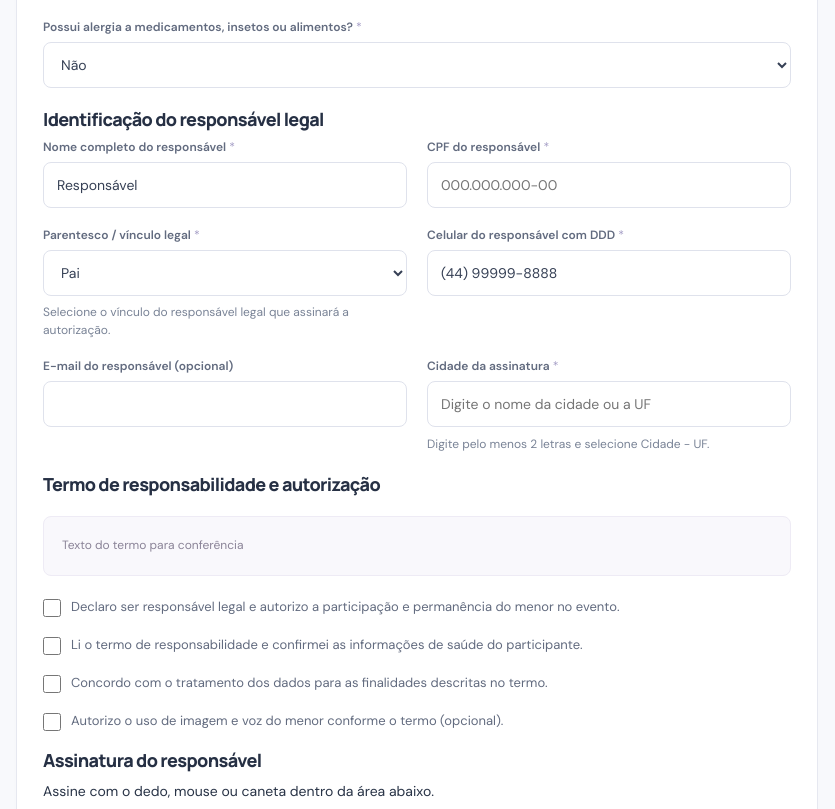
Test: Preenchimento do termo pelo responsável › busca Cidade - UF e seleciona com teclado sem assinar a autorização
(page scrolled)
Type "santa helena" into the dropdown named "Cidade da assinatura".
click(609, 404); type("santa helena")  # box [427,381,791,427]
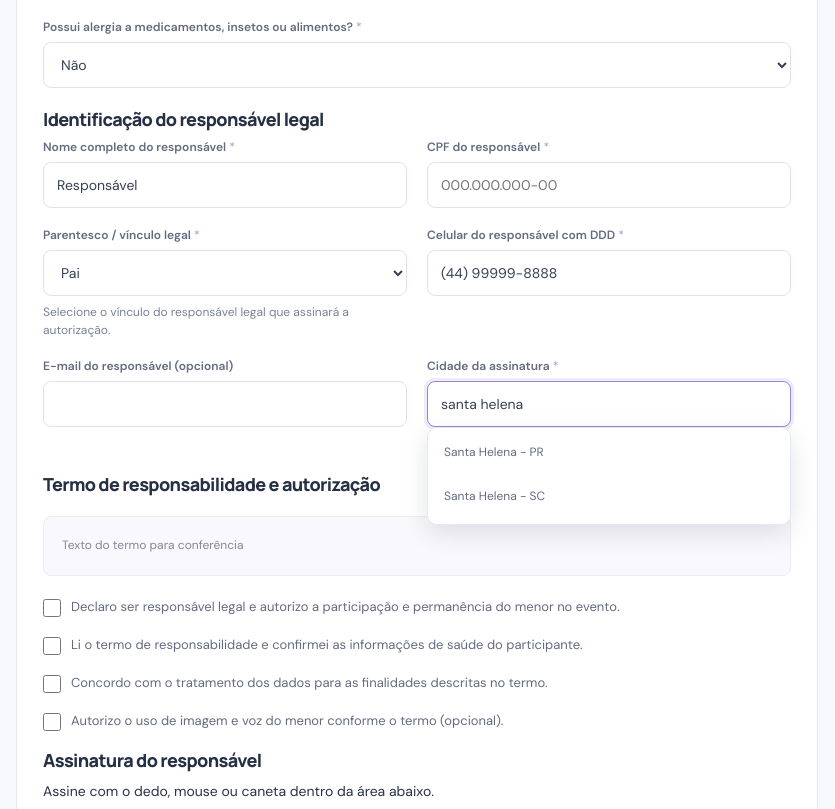
Result: the option "Santa Helena - PR" is shown at [444,444,544,460]
Result: the option "Santa Helena - SC" is shown at [444,488,545,504]
Press Arrowdown Arrowdown Enter
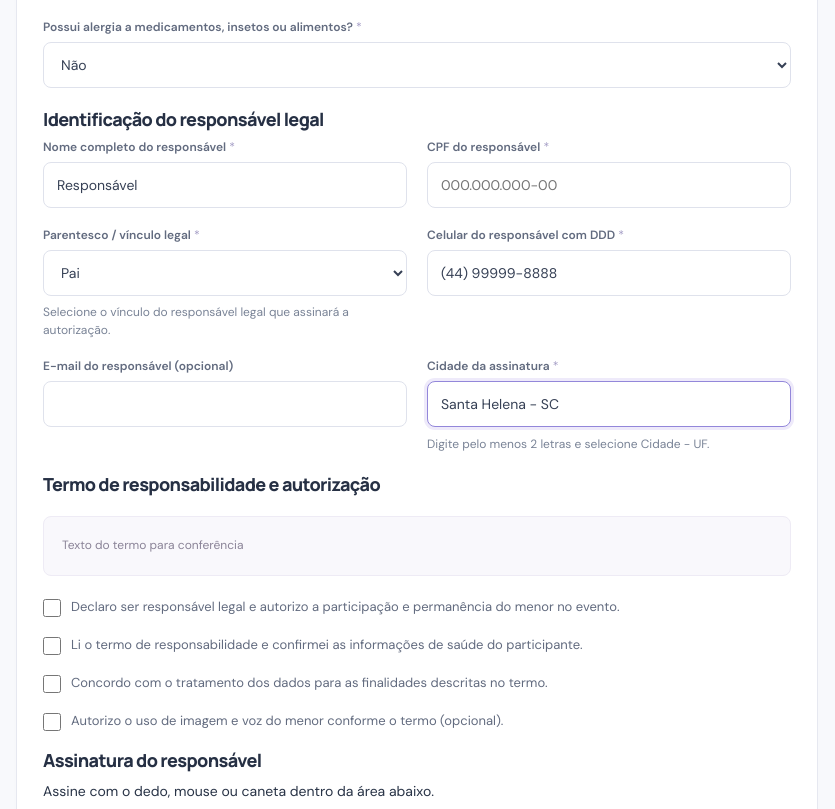
Result: the dropdown named "Cidade da assinatura" holds "Santa Helena - SC" at [427,381,791,427]
Result: the list is gone
